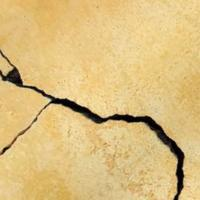crack: (0, 46, 191, 198)
